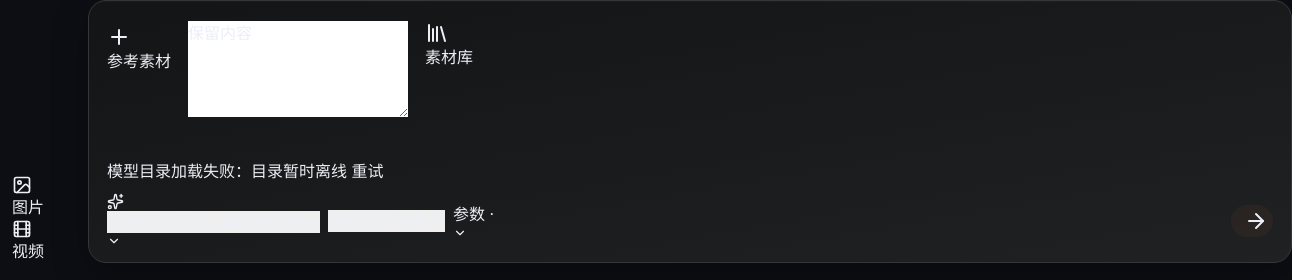
Test: shows catalog failures and retries without silently clearing the selected model
The image size is (1292, 280).
Check: the text box holds "保留内容", box x1=188 y1=21 x2=408 y2=117
What coordinates should you click on to do the following:
click the button "重试"
I would click on:
 (368, 171)
Its box is x1=352 y1=159 x2=384 y2=183.
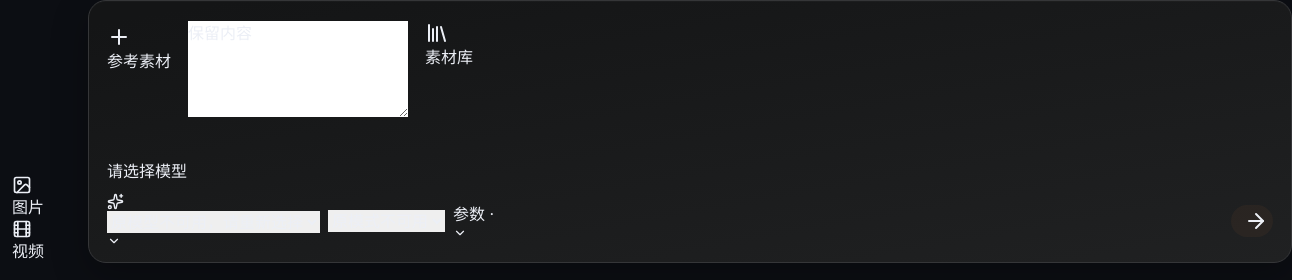
Check: the text "目录暂时离线" is gone
